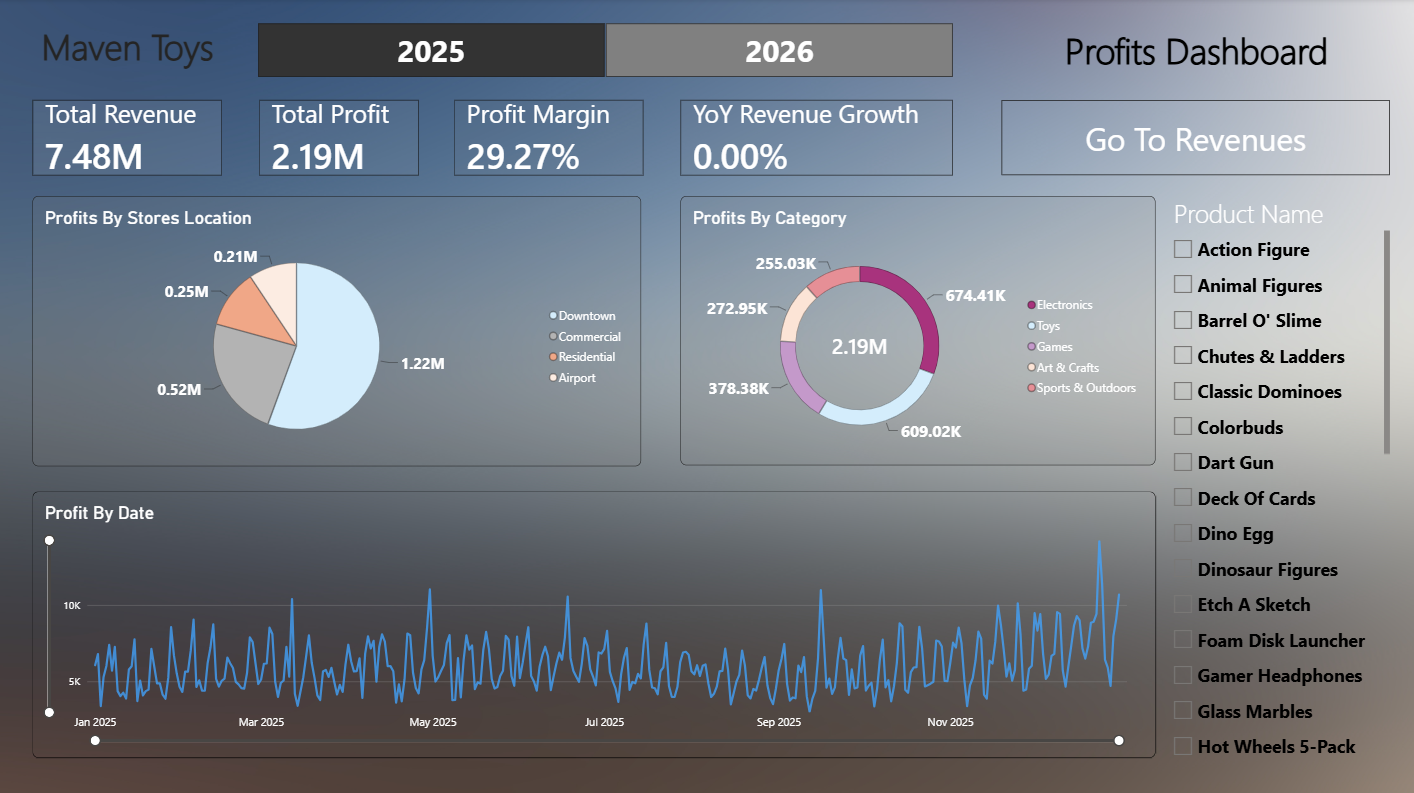

What the dashboard file says about the page in this screenshot:
{"tool":"powerbi","page":{"name":"Profits","canvas":[1920,1080],"ordinal":1},"visuals":[{"type":"image","box":[0,0,1920,1080],"z":0},{"type":"cardVisual","fields":{"Data":["measures_.Total Sales Revenue"]},"box":[46,138,256,102],"z":1000},{"type":"cardVisual","fields":{"Data":["measures_.Total Profit"]},"box":[352,138,216,102],"z":2000},{"type":"cardVisual","fields":{"Data":["measures_.Profit Margin %"]},"box":[616,138,256,102],"z":3000},{"type":"cardVisual","fields":{"Data":["measures_.YoY Revenue Growth %"]},"box":[922,138,368,102],"z":4000},{"type":"slicer","fields":{"Values":["Calendar.Year"]},"box":[331.1,31.5,978.9,75.8],"z":5000},{"type":"shape","box":[1358.9,32.2,523.3,74.4],"z":6000},{"type":"pieChart","title":"Profits By Stores Location","fields":{"Category":["stores.Store_Location"],"Y":["measures_.Total Profit"]},"box":[47.5,267.5,822.5,365],"z":7000},{"type":"donutChart","title":"Profits By Category","fields":{"Category":["products.Product_Category"],"Y":["measures_.Total Profit"]},"box":[922,268,642,364],"z":8000},{"type":"shape","box":[1356.7,138.3,525,101.7],"z":9000},{"type":"actionButton","box":[1356.7,138.3,525,101.7],"z":10000},{"type":"textbox","box":[48,32,254,74],"z":11000},{"type":"lineChart","title":"Profit By Date","fields":{"Category":["Calendar.Date"],"Y":["measures_.Total Profit"]},"box":[46,668,1518,360],"z":12000},{"type":"slicer","fields":{"Values":["products.Product_Name"]},"box":[1582,268,300,760],"z":13000}]}

Visuals, with their boxes in screenshot pixels (x1, y1, x2, y2), scaled from the page's 1920x1080 canvas onto the 1414x793 screenshot:
image: {"x1": 0, "y1": 0, "x2": 1413, "y2": 792}
cardVisual - measures_.Total Sales Revenue: {"x1": 34, "y1": 101, "x2": 222, "y2": 176}
cardVisual - measures_.Total Profit: {"x1": 259, "y1": 101, "x2": 418, "y2": 176}
cardVisual - measures_.Profit Margin %: {"x1": 454, "y1": 101, "x2": 642, "y2": 176}
cardVisual - measures_.YoY Revenue Growth %: {"x1": 679, "y1": 101, "x2": 950, "y2": 176}
slicer - Calendar.Year: {"x1": 244, "y1": 23, "x2": 965, "y2": 79}
shape: {"x1": 1001, "y1": 24, "x2": 1386, "y2": 78}
"Profits By Stores Location" pieChart: {"x1": 35, "y1": 196, "x2": 641, "y2": 464}
"Profits By Category" donutChart: {"x1": 679, "y1": 197, "x2": 1152, "y2": 464}
shape: {"x1": 999, "y1": 102, "x2": 1386, "y2": 176}
actionButton: {"x1": 999, "y1": 102, "x2": 1386, "y2": 176}
textbox: {"x1": 35, "y1": 23, "x2": 222, "y2": 78}
"Profit By Date" lineChart: {"x1": 34, "y1": 490, "x2": 1152, "y2": 755}
slicer - products.Product_Name: {"x1": 1165, "y1": 197, "x2": 1386, "y2": 755}
